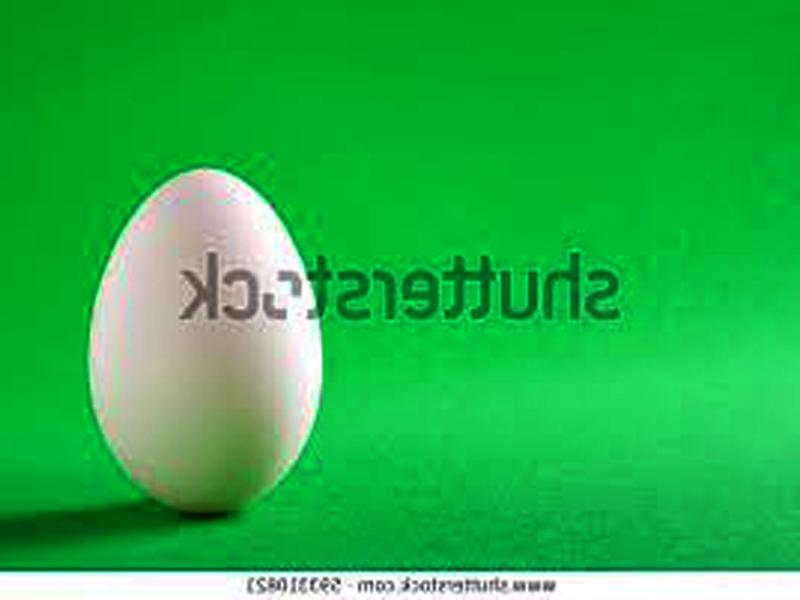Eggs: (86, 169, 321, 520)
